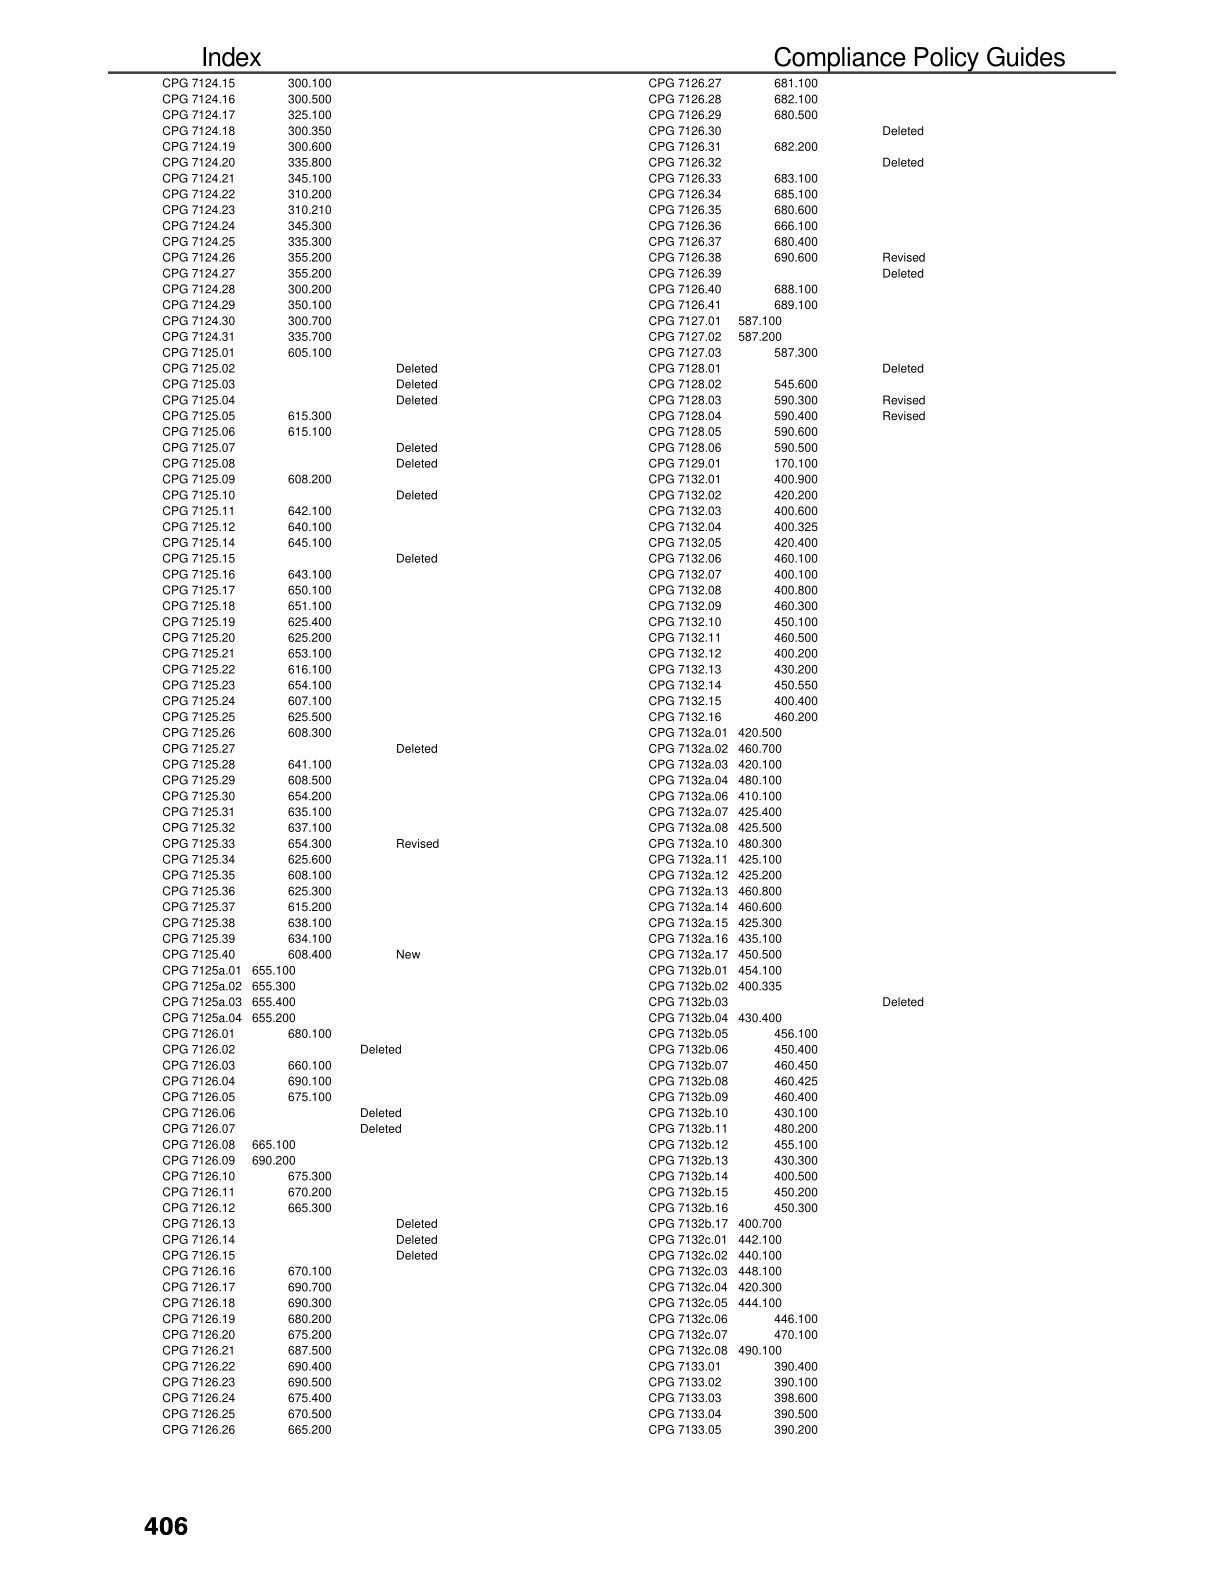nolines: (152, 72, 932, 1437)
